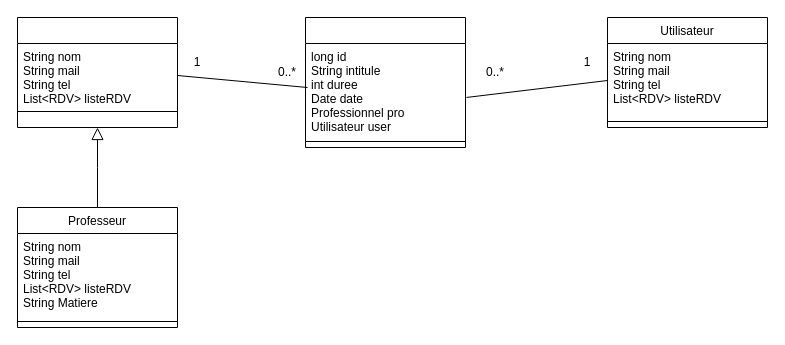
The diagram is 785 pixels wide and 345 high, and some of its shapes have lost their labels. The box of each missing label's shape, as (x1, y1, x2, y2) in pixels:
Professionnel: (16, 16, 178, 128)
RDV: (304, 16, 466, 148)
